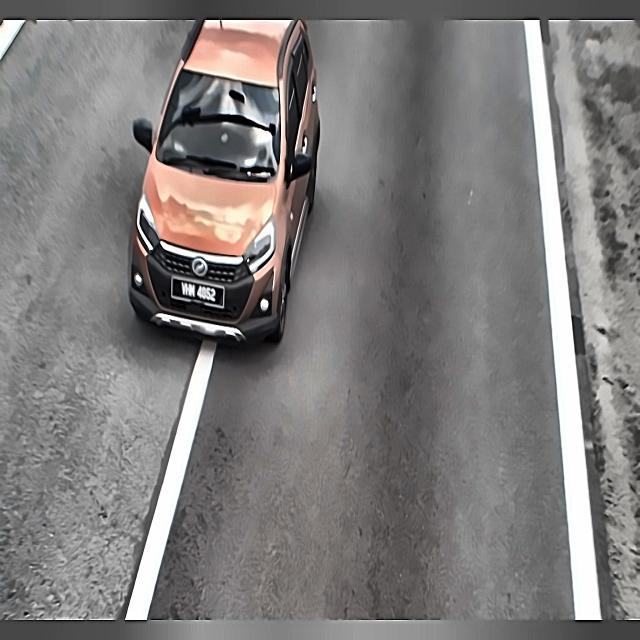car: (168, 269, 227, 309)
